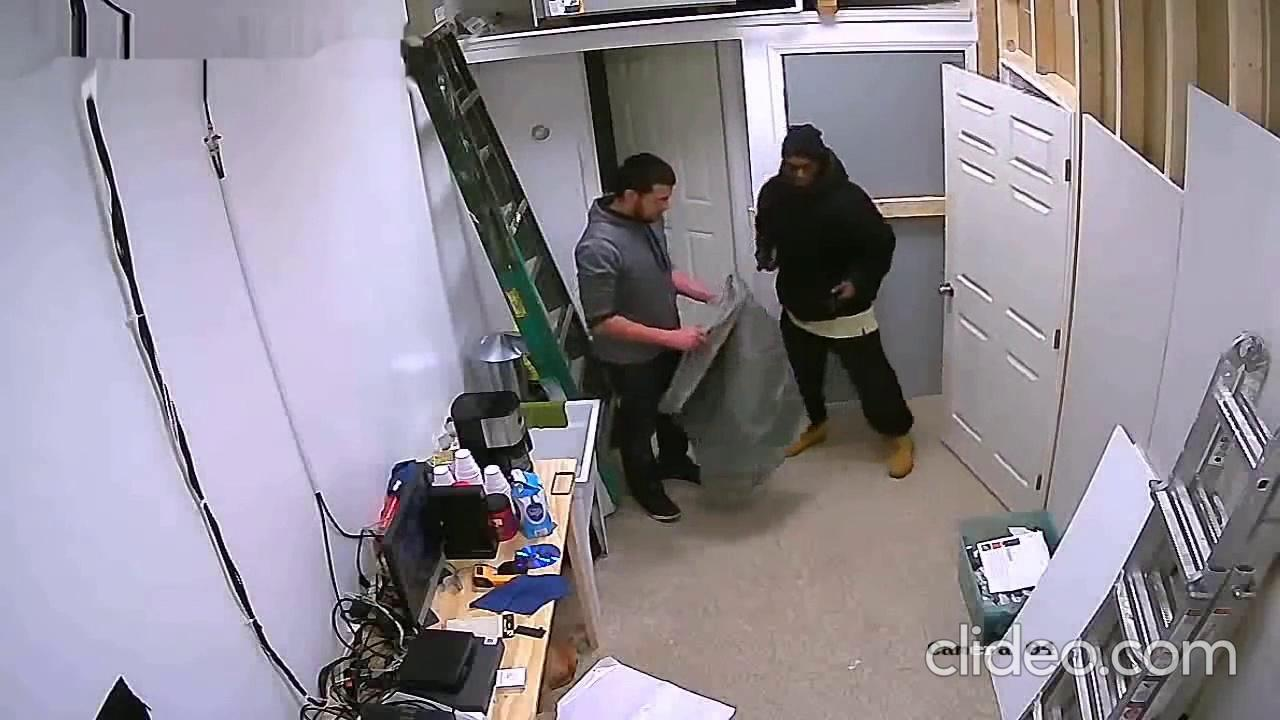person: (754, 123, 918, 480), (573, 150, 726, 524)
pistol: (756, 239, 778, 274)
